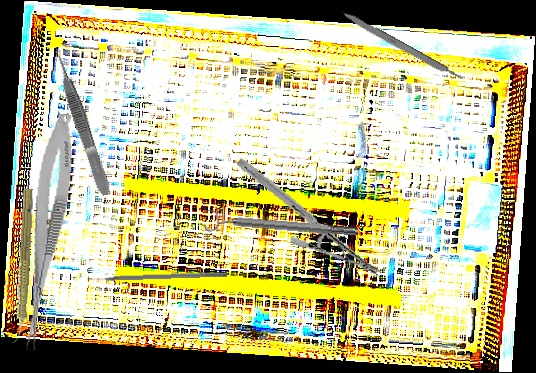Fixation Ring: (203, 207, 359, 245)
Handpiece: (9, 188, 36, 344)
Hook Surgical: (86, 270, 228, 282)
Micro Scissor: (17, 111, 80, 354)
Needle Holder: (222, 157, 396, 278)
Scalpel Handle: (338, 8, 465, 85)
Tissue Forceps: (53, 53, 113, 198)
